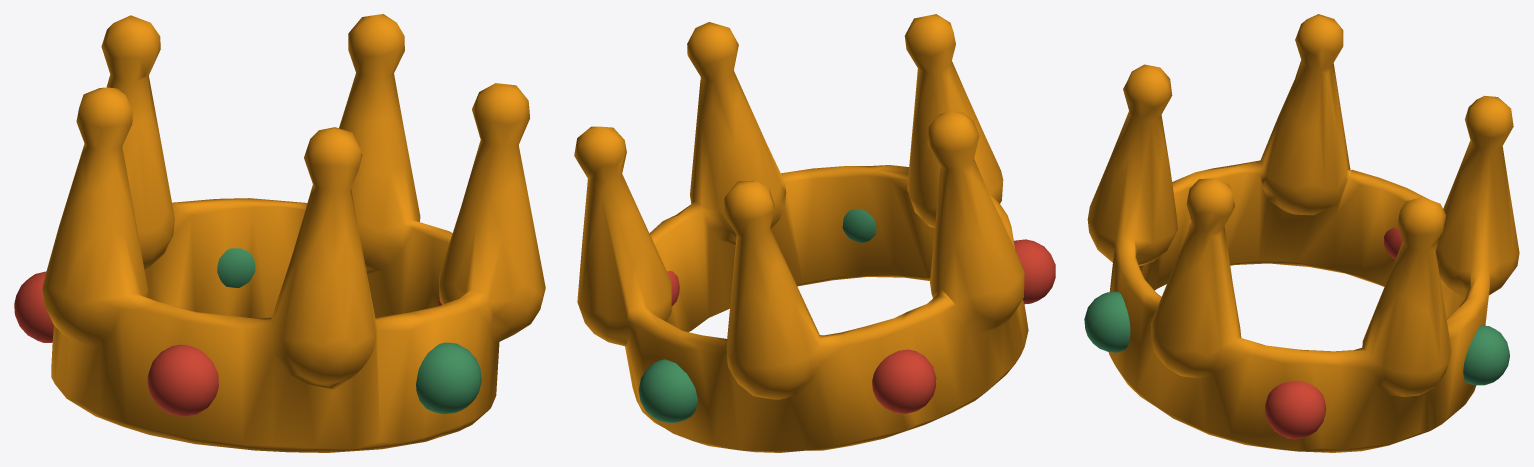
The model's file is vuongmien.glb.
3 views of the same model, side by side, from view 1: azimuth 30°, elevation 25°; view 2: azimuth 150°, elevation 25°; view 3: azimuth 270°, elevation 25° (orthographic). The views are drawn at different scales.
Visible parts, largest first — view 1: Vuong_Mien, Da_Quy; view 2: Vuong_Mien, Da_Quy; view 3: Vuong_Mien, Da_Quy.
Part boxes in pixels (x1=…): Vuong_Mien: x1=42, y1=14, x2=545, y2=452; Da_Quy: x1=14, y1=248, x2=481, y2=416; Vuong_Mien: x1=574, y1=14, x2=1028, y2=452; Da_Quy: x1=638, y1=209, x2=1055, y2=423; Vuong_Mien: x1=1087, y1=14, x2=1519, y2=452; Da_Quy: x1=1084, y1=222, x2=1509, y2=439.
Bounding box in the file's own units: 0.1073 × 0.0816 × 0.1062.
